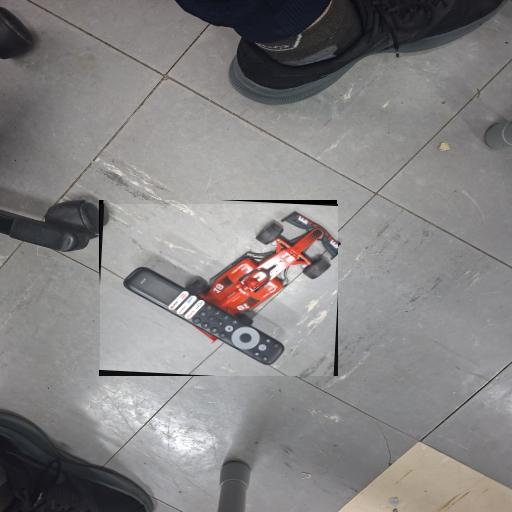carro: (100, 205, 337, 376)
